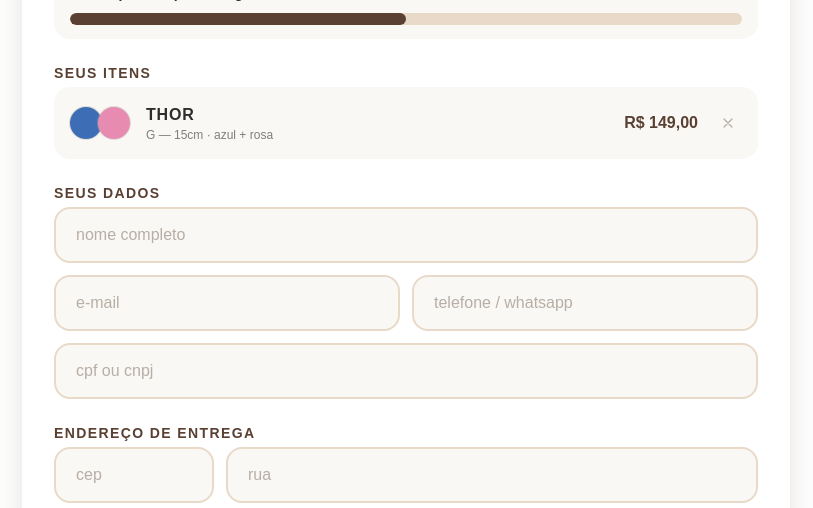
CheckoutForm — com itens › PAC vem selecionado por padrão; escolher SEDEX cobra o valor do serviço mais caro
Expected: the text "THOR" is shown, top-left (146, 106), bottom-right (194, 123)
In the field with test id "checkout-cep": (134, 475) top-left (54, 447), bottom-right (214, 503), type "01310100"
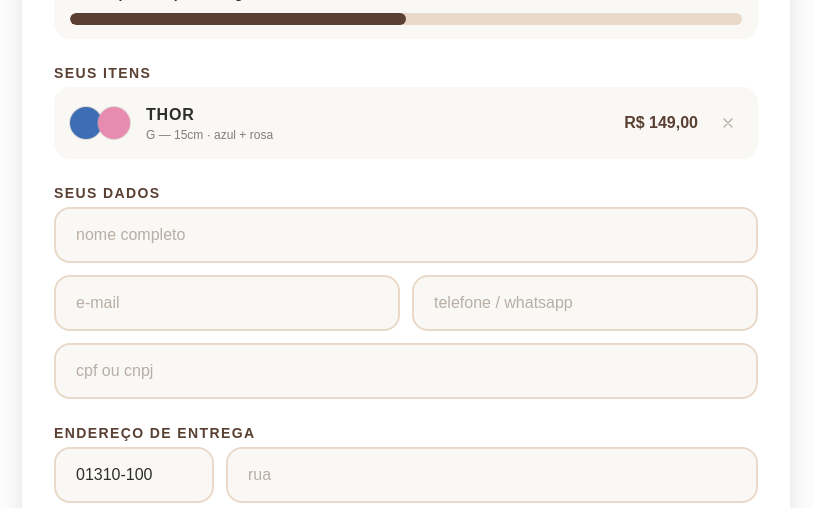
Leave the field with test id "checkout-cep", box top-left (54, 447), bottom-right (214, 503)
(page scrolled)
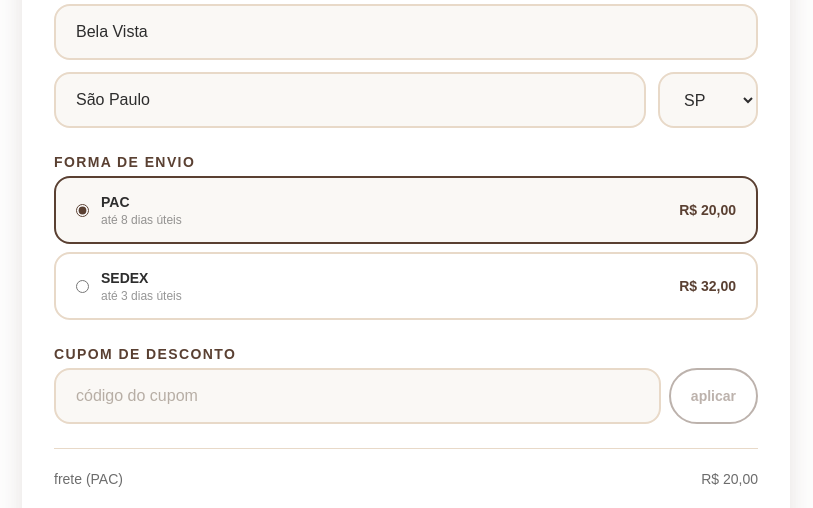
Expected: the text with test id "checkout-shipping-total" reads "R$ 20,00", top-left (701, 471), bottom-right (758, 487)
Click the radio button labelled "SEDEX até 3 dias úteis R$ 32,00": (82, 286) top-left (76, 280), bottom-right (89, 292)
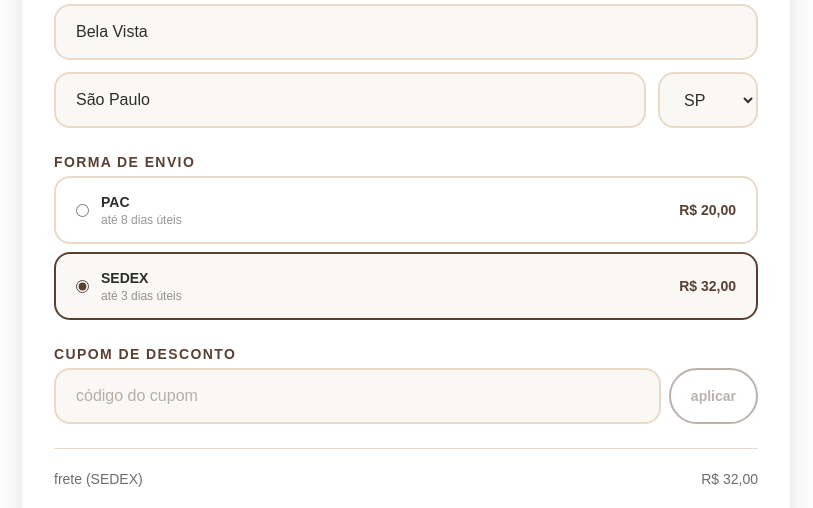
Expected: the text with test id "checkout-shipping-total" reads "R$ 32,00", top-left (701, 471), bottom-right (758, 487)
